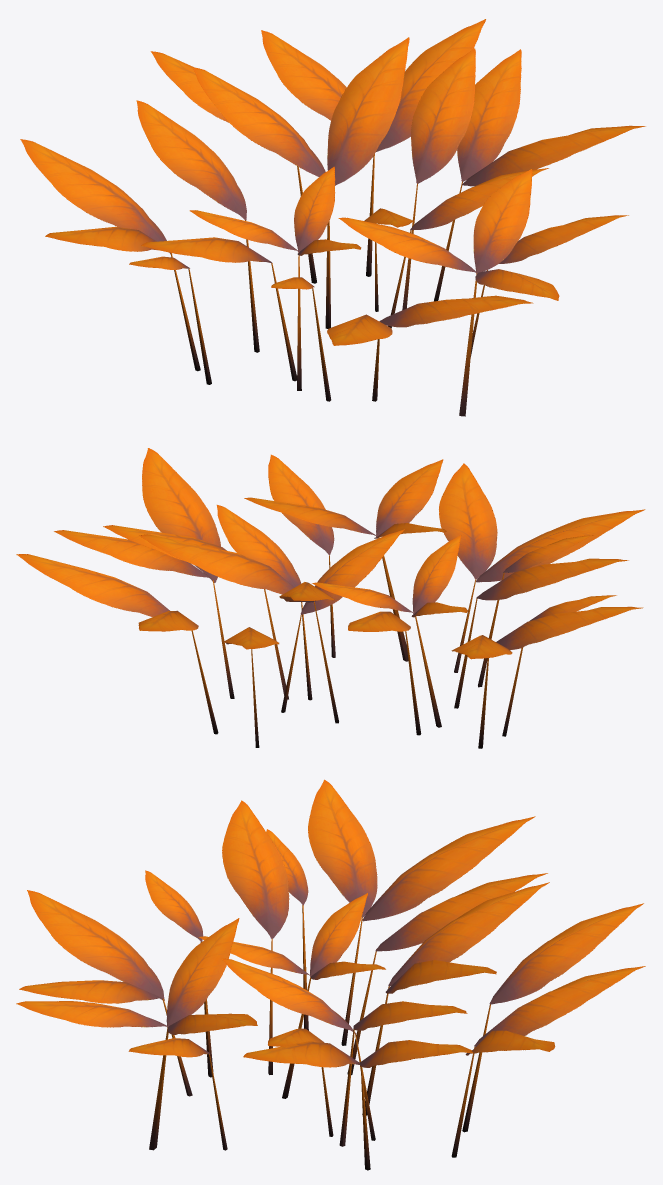
Rendered from Plant_3.gltf.
The picture shows the model from 3 angles, top to bottom: view 1: azimuth 30°, elevation 25°; view 2: azimuth 150°, elevation 25°; view 3: azimuth 270°, elevation 25°; orthographic projection. The views are drawn at different scales.
Parts seen in each view (by area): view 1: Plant_3; view 2: Plant_3; view 3: Plant_3.
Part boxes in pixels (box(x1,y1,x2,y2)): Plant_3: box(20, 19, 645, 416); Plant_3: box(16, 448, 645, 748); Plant_3: box(16, 779, 645, 1170).
Bounding box in the file's own units: 1.84 × 0.7066 × 1.74.
1 material, 1 textured.
